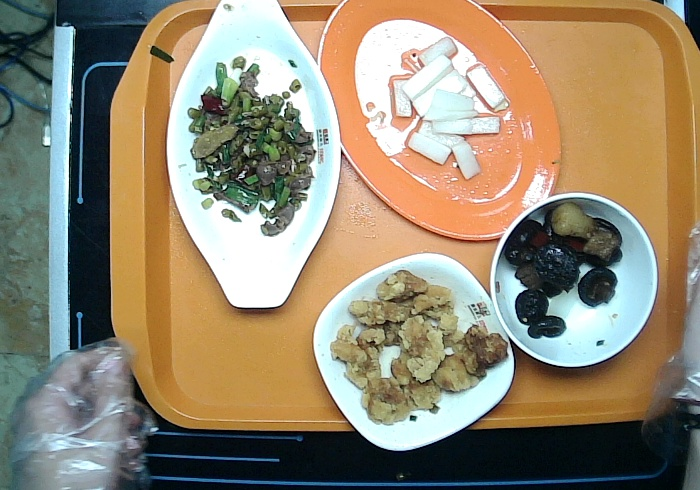NLDX-Bai_Se_Xiao_Fang_Die: (313, 247, 516, 450)
NLDX-Fan_Wan: (488, 189, 660, 371)
NLDX-Ju_Se_Pan: (311, 1, 564, 245)
NLDX-Yu_Pan: (161, 1, 345, 312)
